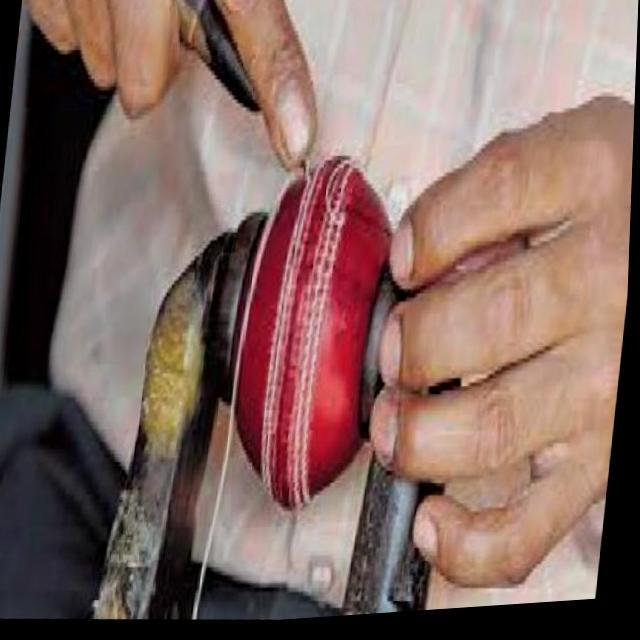-: (234, 150, 413, 533)
